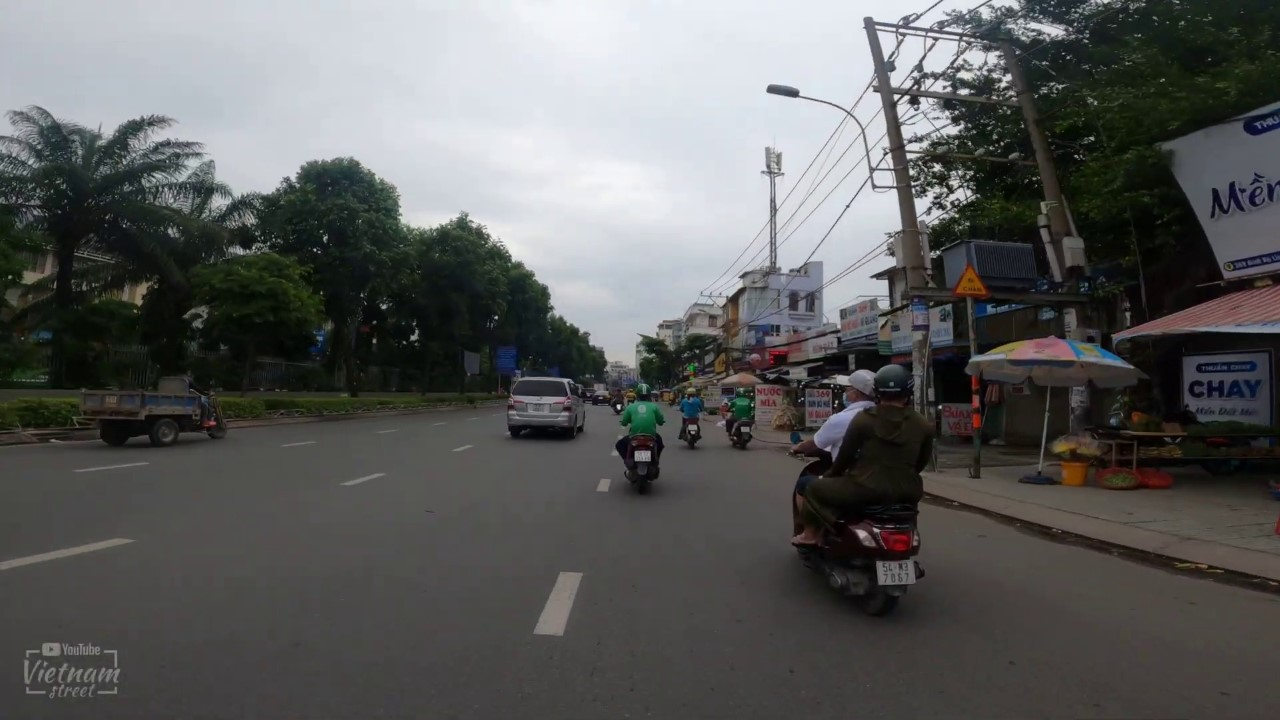di_cham: (951, 263, 991, 298)
